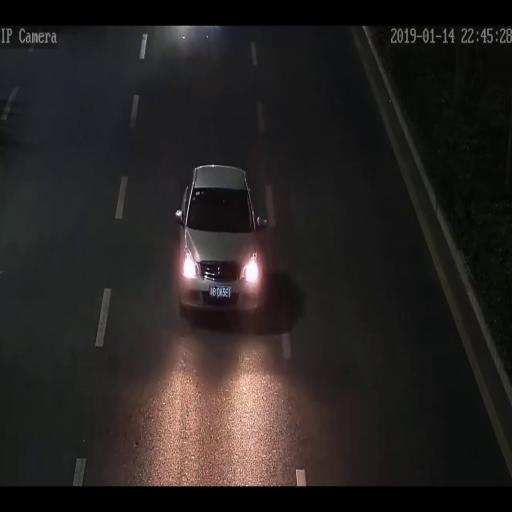License plate: (209, 285, 232, 300)
Vehicle: (175, 164, 267, 319)
